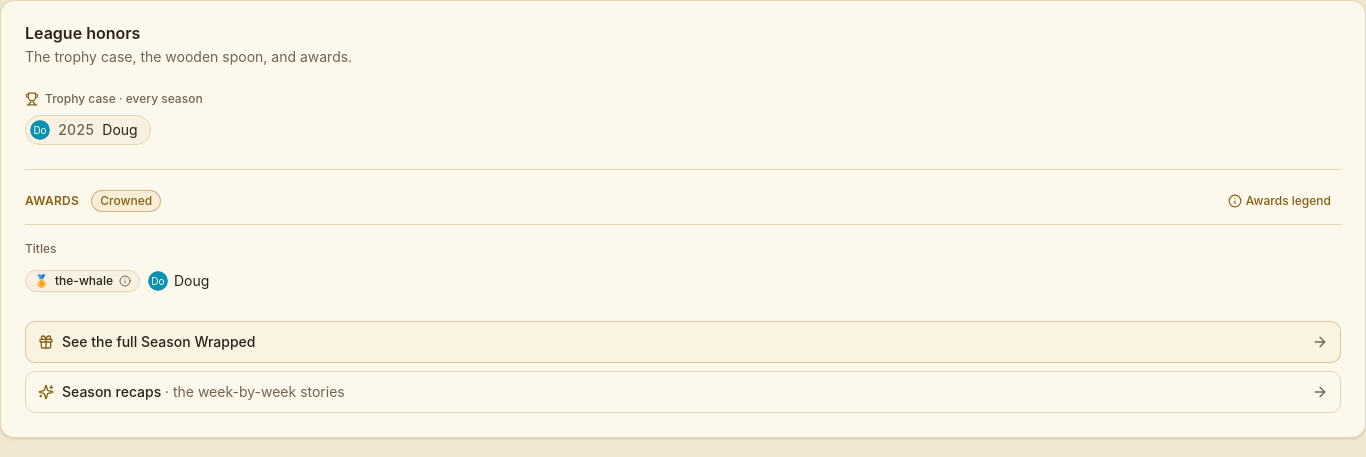
Scenario: LeagueHonors — tap-to-explain award popover (#881) › opens a popover on the tapped chip carrying its flavor and how it is earned
Step 1. Click the button with test id "badge-chip-the-whale" → (82, 281), box [25,265,140,297]
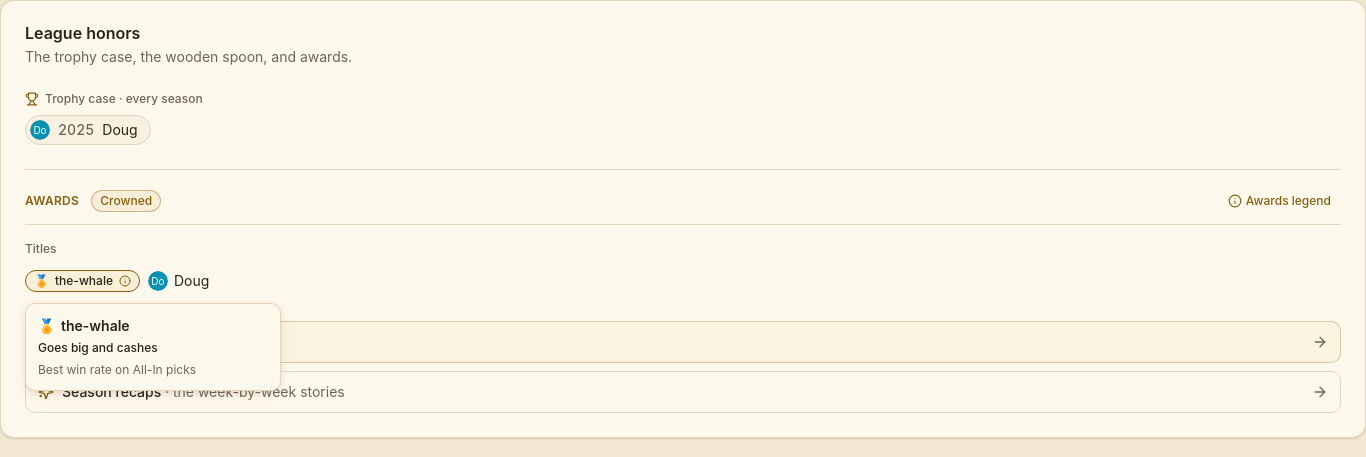
Expected: the element with test id "badge-popover-the-whale" shows "the-whale", [61,317,130,334]
Expected: the element with test id "badge-popover-the-whale" shows "Goes big and cashes", [38,340,158,355]
Expected: the element with test id "badge-popover-the-whale" shows "Best win rate on All-In picks", [38,362,196,377]
